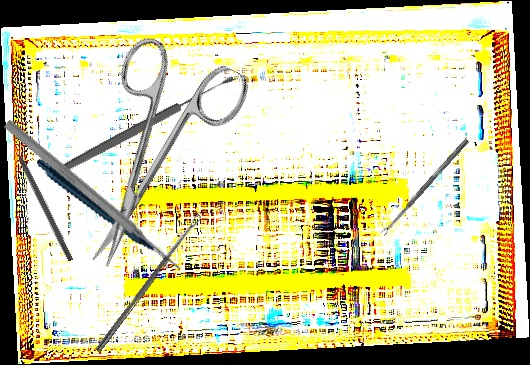Handpiece: (36, 133, 169, 296)
Hook Surgical: (9, 138, 75, 262)
Iris Scissors: (39, 25, 255, 289)
Pusher: (1, 117, 186, 276)
Surgical Spoon: (52, 73, 236, 179), (95, 213, 203, 354), (379, 137, 470, 237)
